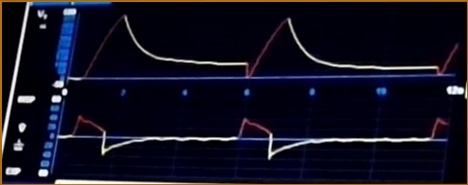Flow: (64, 104, 447, 168)
Leakage Volume: (72, 14, 458, 83)
